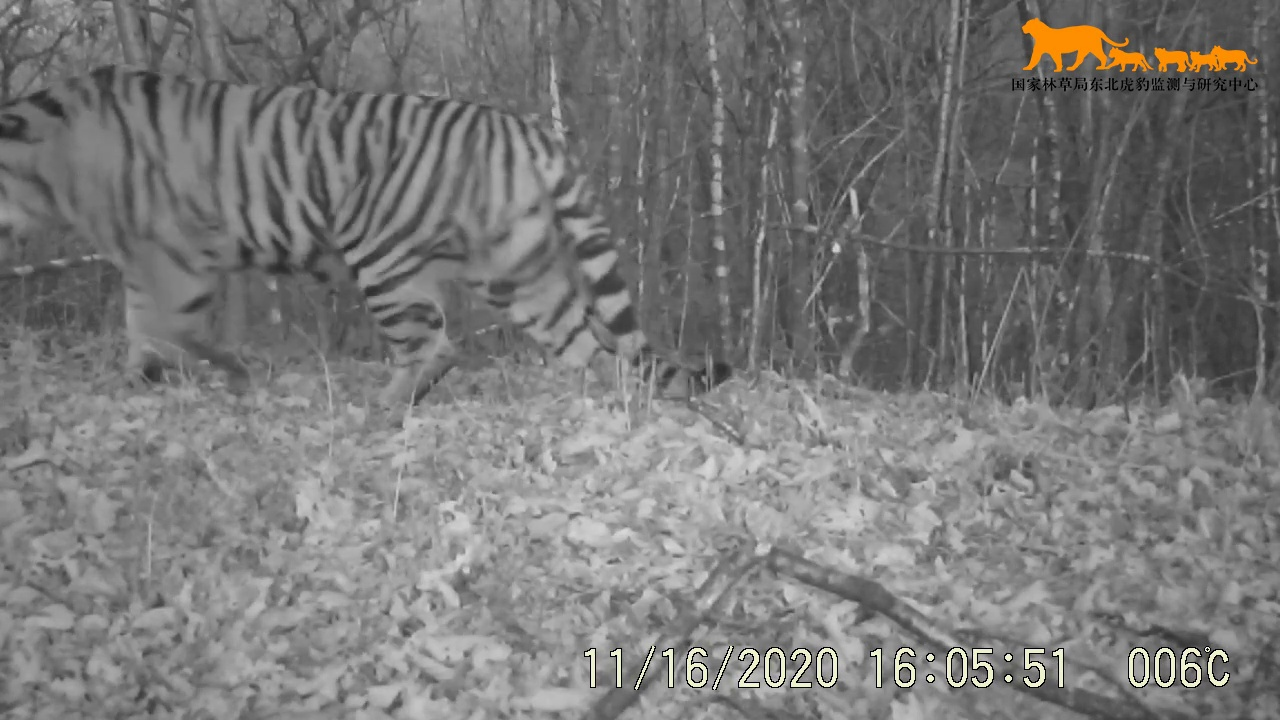Tiger: (6, 5, 796, 522)
